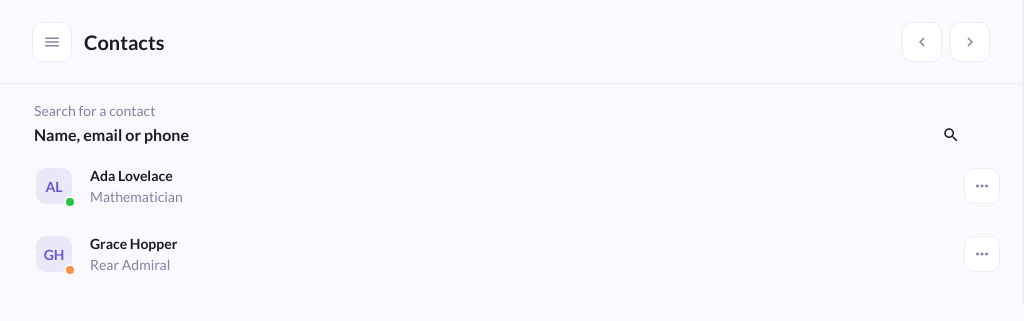
Test: ContactListComponent › filters contacts when the search input changes
The image size is (1024, 321).
Type "Grace" into the field with id "contact-search".
click(484, 134); type("Grace")  # box [34,125,934,144]
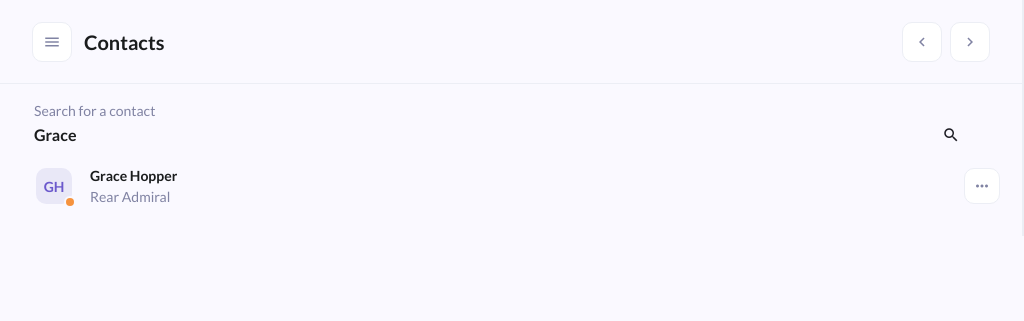
Check: the text "Grace Hopper" is shown, box [90,165,177,186]
Check: the number of options with class "contact-item" is 1, box [36,167,1000,206]
